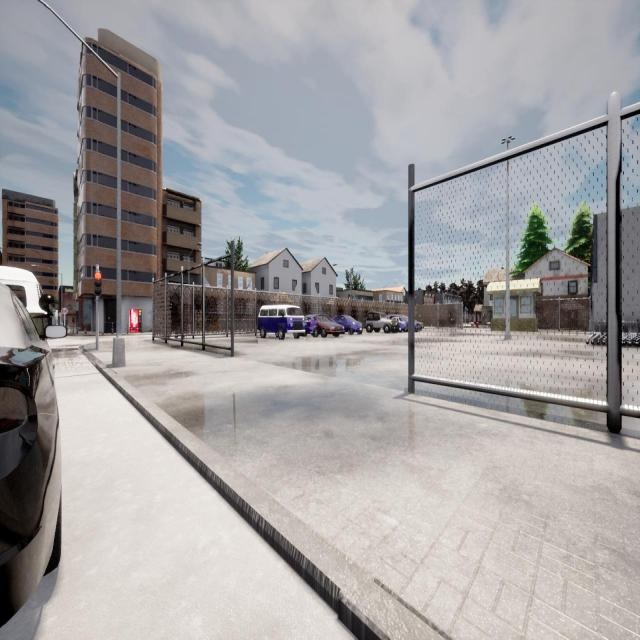Traffic_Signs: (62, 308, 68, 314), (58, 313, 62, 316)
Vehicle: (0, 277, 60, 626), (0, 266, 50, 340), (258, 305, 304, 339), (304, 314, 344, 337), (330, 315, 362, 335), (366, 312, 398, 332), (389, 314, 424, 332)
traffic_light: (94, 272, 102, 295)
